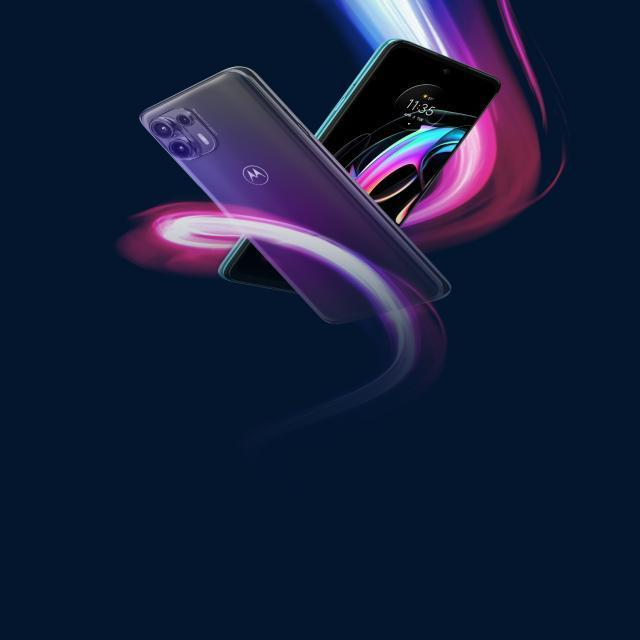Phone: (136, 62, 453, 336), (302, 37, 498, 229)
